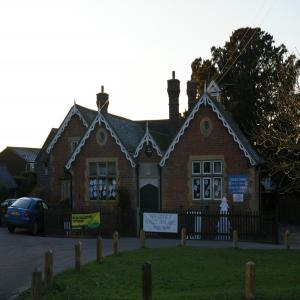Vehicle-registration-plate: (14, 212, 22, 217)
